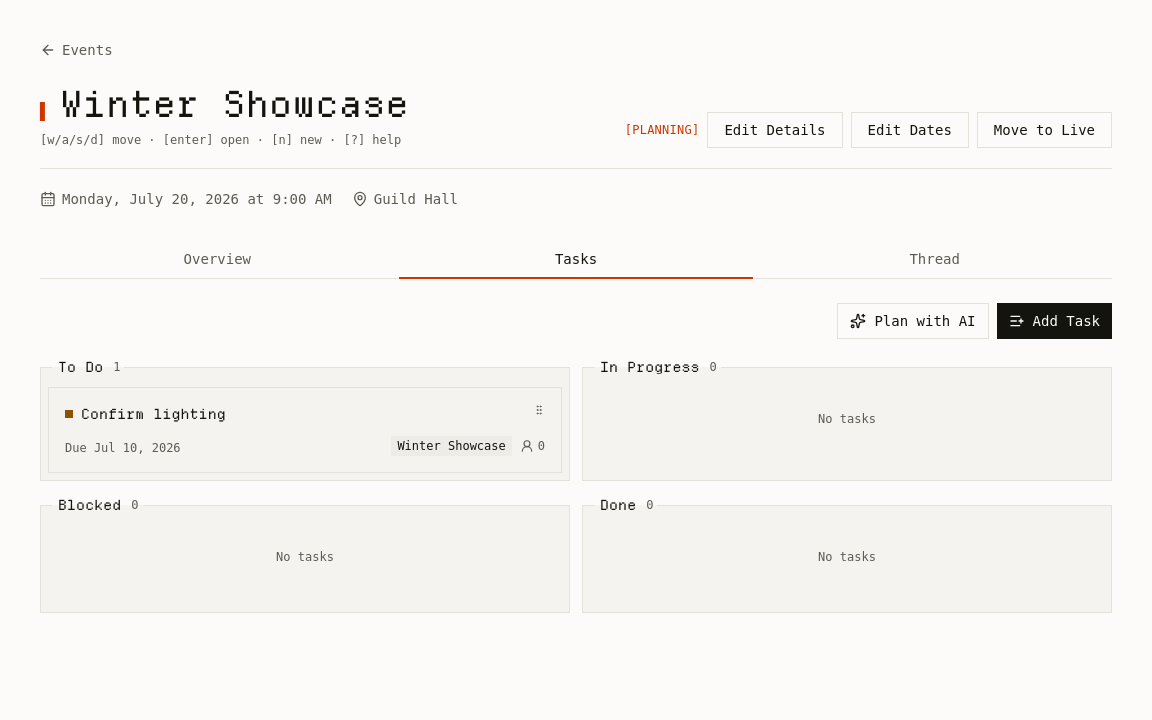
Test: EventDetailPage › deletes an event task from the dialog once a tier-1 member confirms
Click the button named "Open Confirm lighting" at (305, 430), box [49,388,561,472]
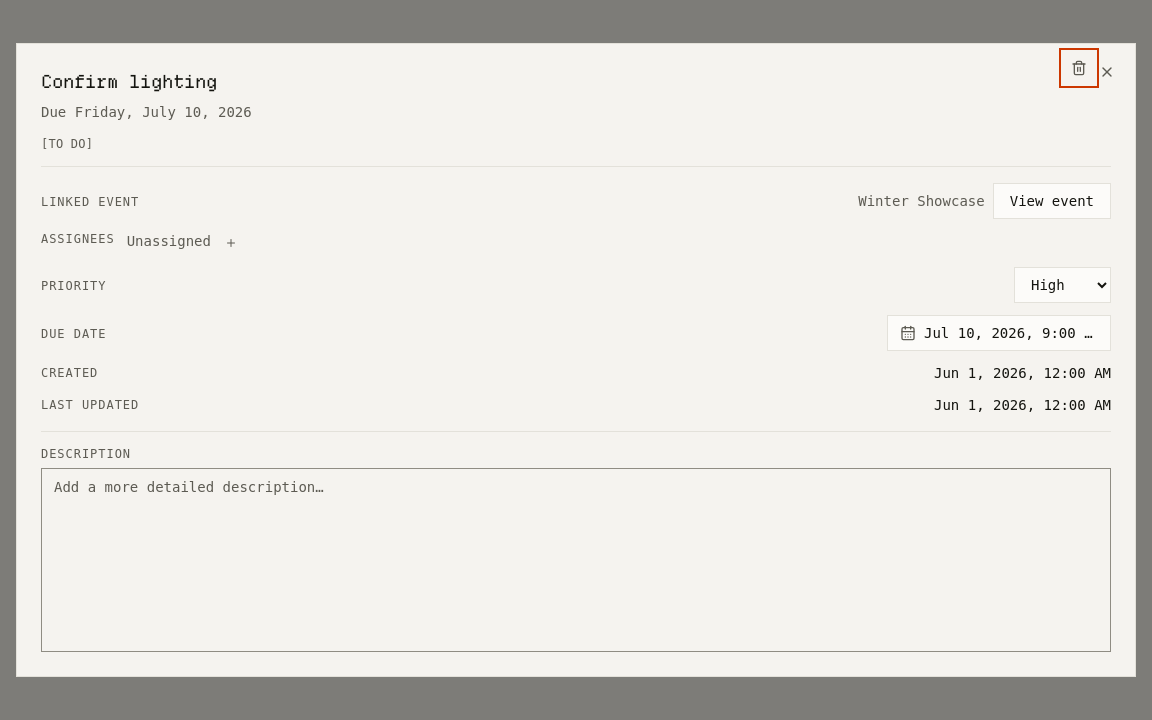
Click the button named "Delete Task" at (1079, 68), box [1063,52,1095,84]
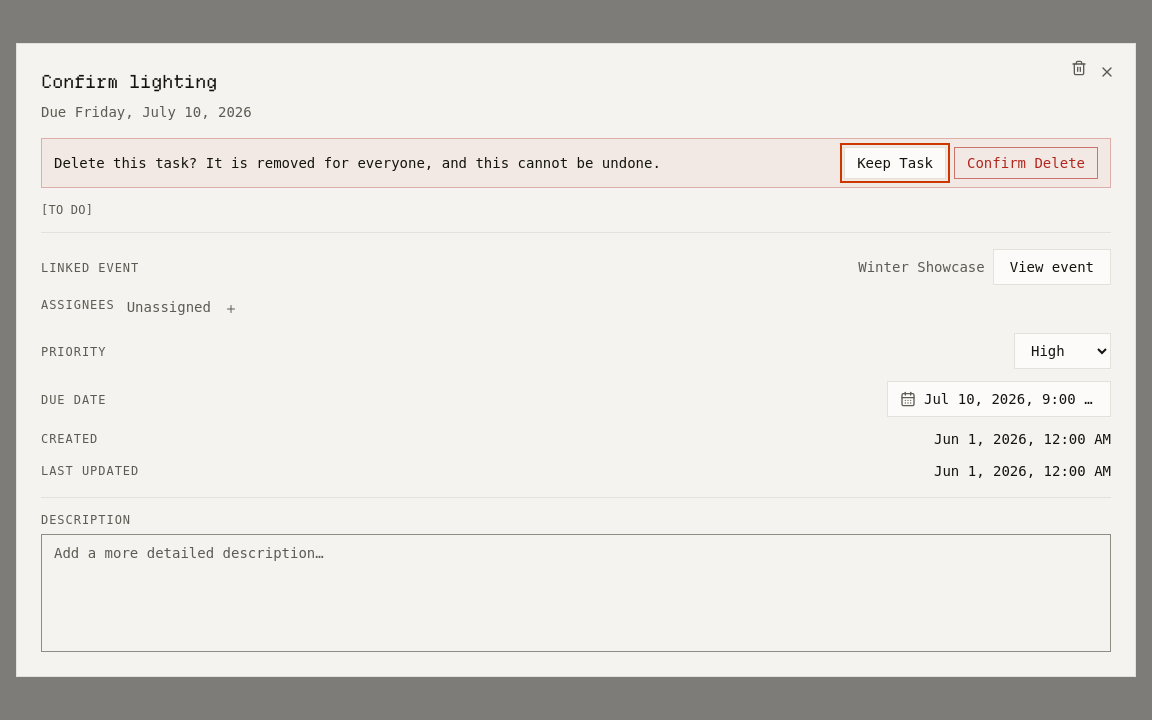
Click the button "Confirm Delete" at (1026, 163), box [954,147,1098,179]
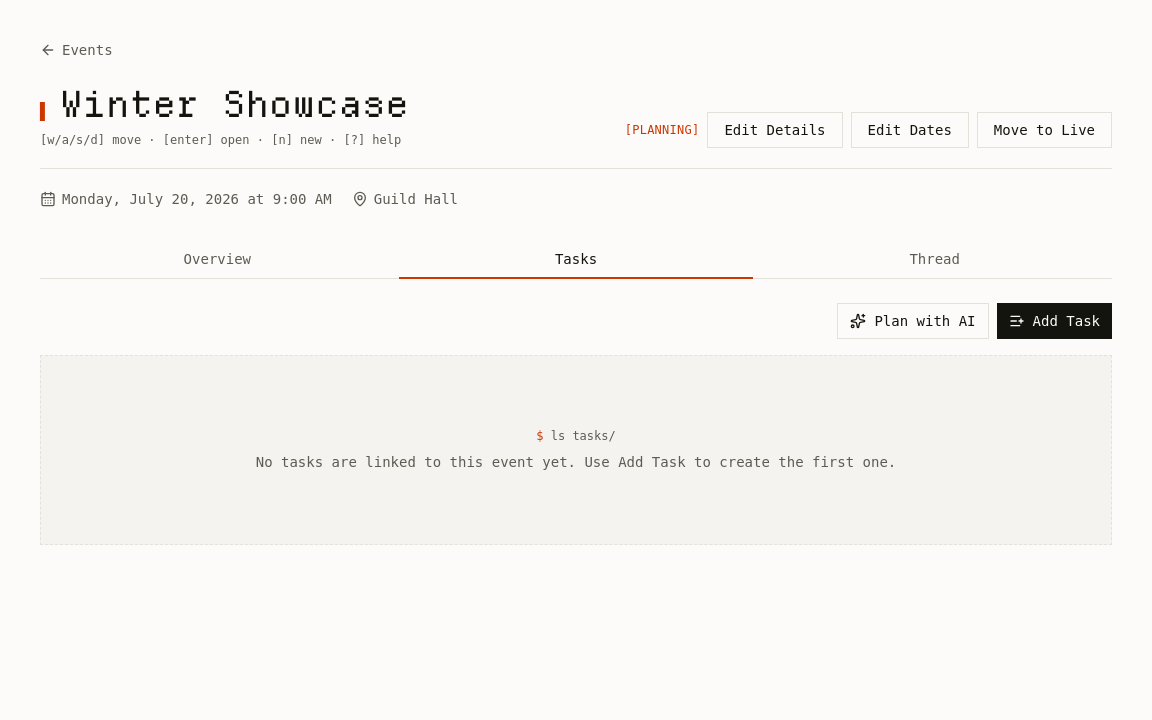
Expected: the heading "Confirm lighting" is not shown
Expected: the dialog is gone
